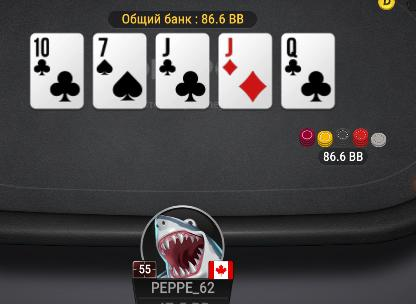10c: (31, 33, 84, 108)
7s: (93, 33, 147, 108)
Jc: (157, 34, 207, 107)
Jd: (219, 35, 273, 108)
Qc: (282, 34, 333, 107)
